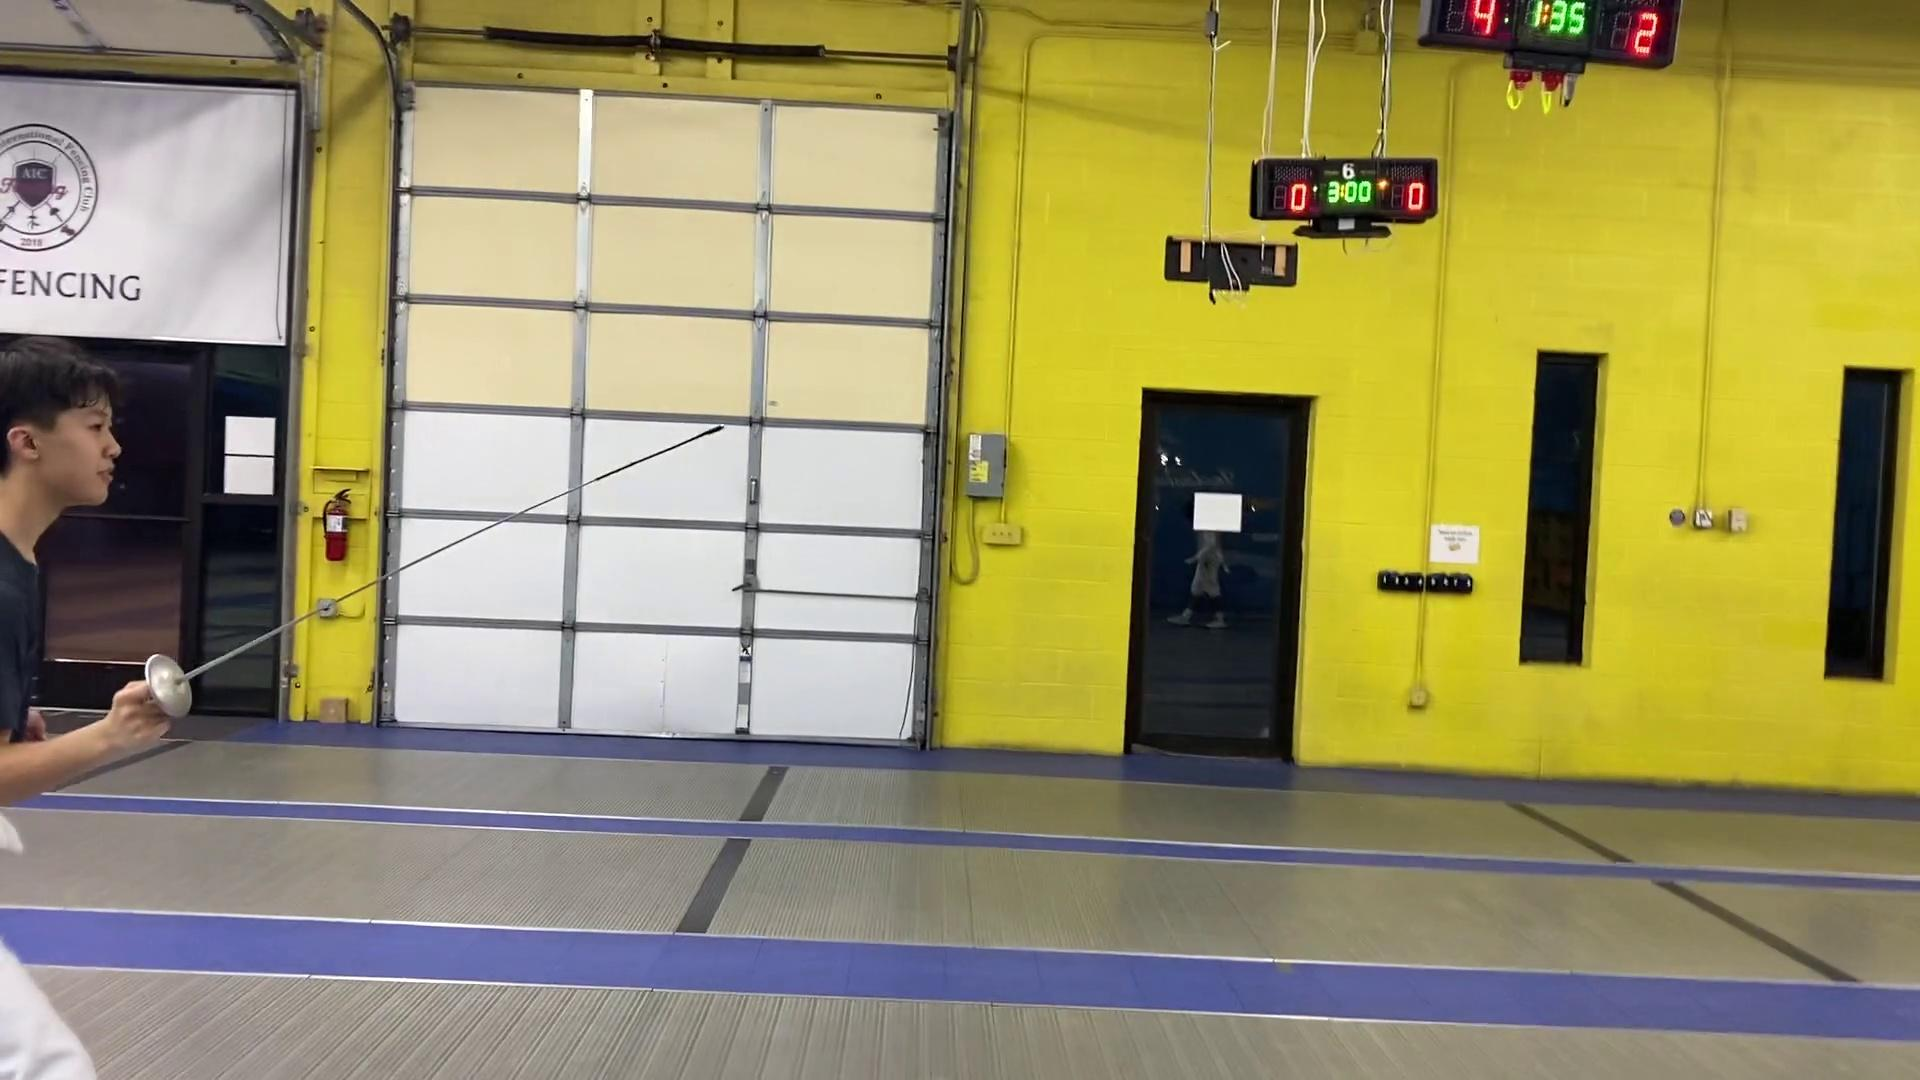blade-guard: (141, 647, 196, 723)
blade-tip: (589, 421, 728, 487)
fencing-blade: (138, 419, 732, 732)
